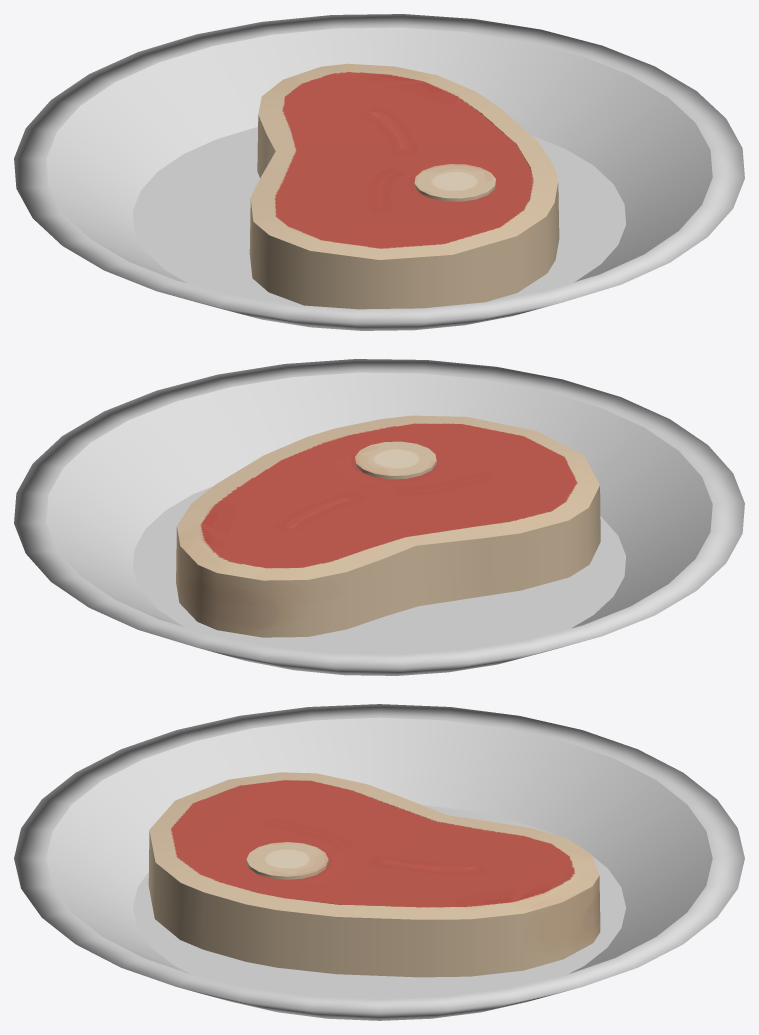
The model's file is beeffinal.fbx.
3 views of the same model, one above another, from view 1: azimuth 30°, elevation 25°; view 2: azimuth 150°, elevation 25°; view 3: azimuth 270°, elevation 25° (orthographic).
Parts seen in each view (by area): view 1: beeffinal; view 2: beeffinal; view 3: beeffinal.
Boxes of the visible parts, <box> form: beeffinal: <box>14,14,744,330</box>; beeffinal: <box>14,359,744,675</box>; beeffinal: <box>14,704,744,1020</box>.
Bounding box in the file's own units: 325 × 325 × 31.23.
Materials: 2 (1 with a texture image).
